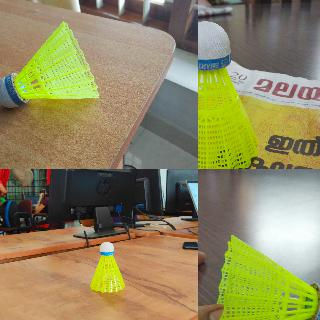shuttlecock: (212, 235, 319, 319), (0, 19, 100, 108), (198, 21, 258, 168), (89, 241, 125, 293)
